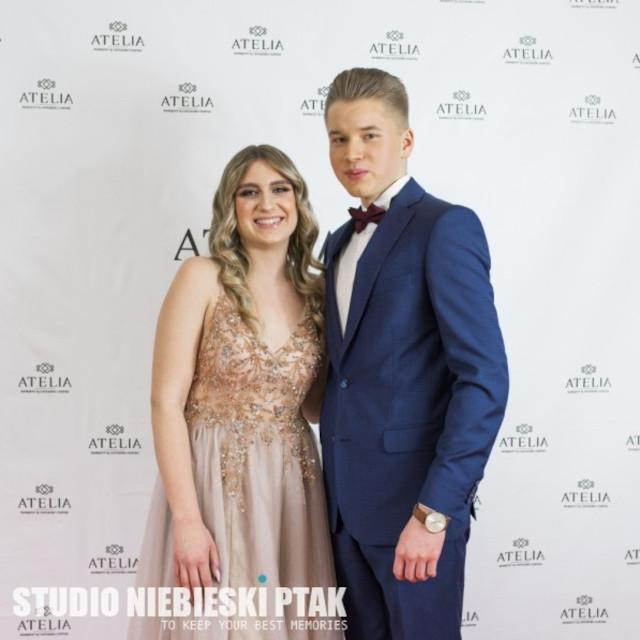kobieta: (158, 144, 330, 640)
mezczyzna: (312, 65, 512, 640)
